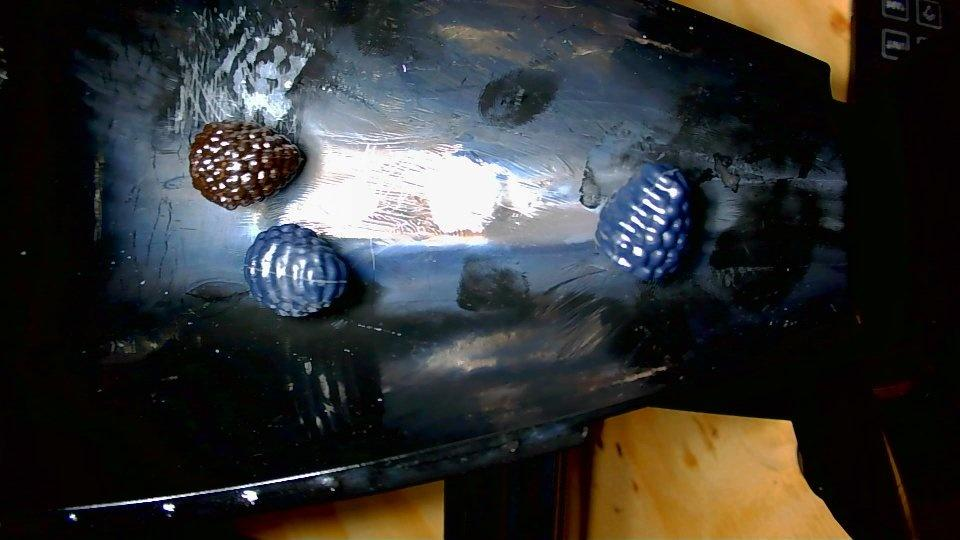berry: (596, 165, 689, 280), (189, 121, 304, 210), (243, 224, 347, 317)
